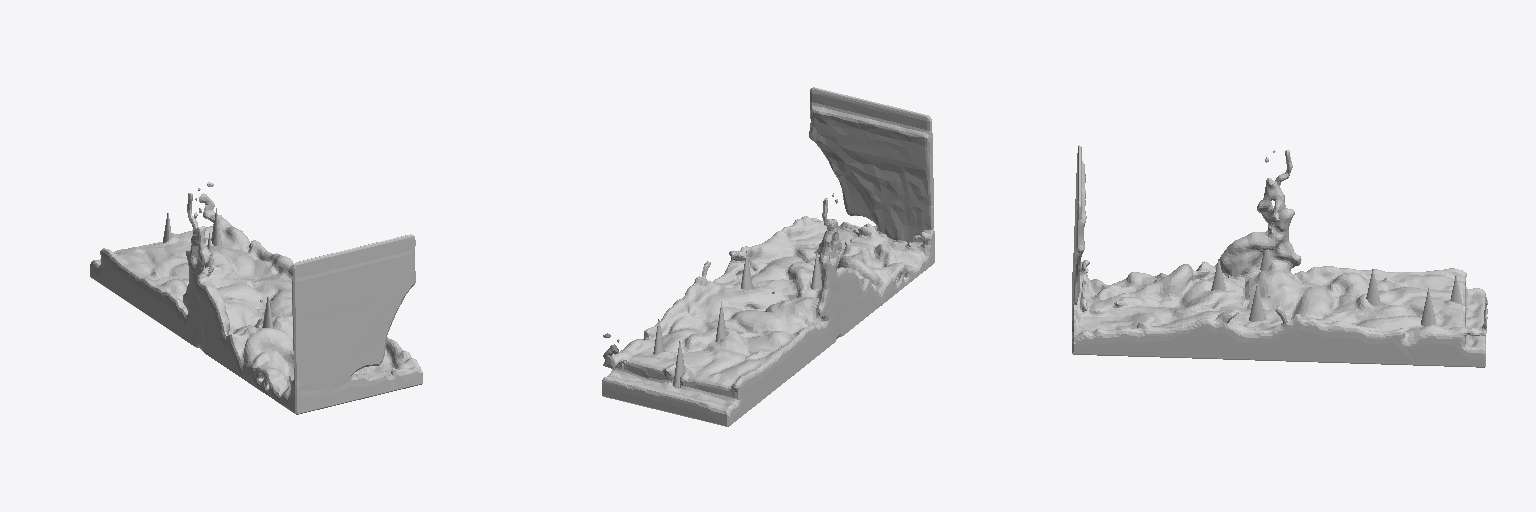
The picture shows the model from 3 angles: view 1: azimuth 30°, elevation 25°; view 2: azimuth 150°, elevation 25°; view 3: azimuth 270°, elevation 25°; orthographic projection.
Parts seen in each view (by area): view 1: Liquid_Domain; view 2: Liquid_Domain; view 3: Liquid_Domain.
Boxes of the visible parts, x1,y1,x2,y2 form: Liquid_Domain: [90, 182, 422, 414]; Liquid_Domain: [602, 87, 934, 426]; Liquid_Domain: [1072, 145, 1487, 367].
Bounding box in the file's own units: 129 × 158 × 363.